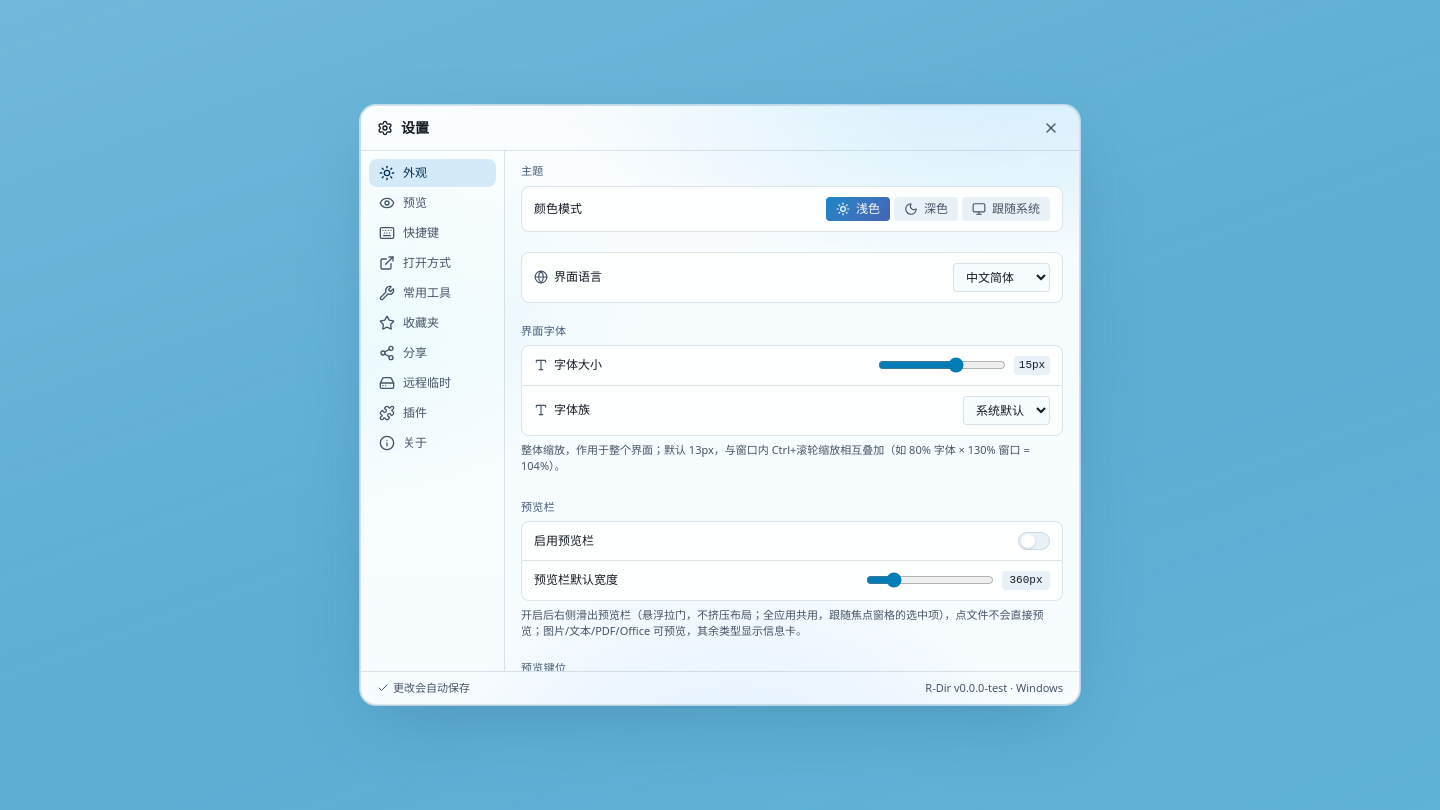
it: SettingsDialog 打开方式分区 › 展示名称与已关联扩展名
The width and height of the screenshot is (1440, 810).
Click the button "打开方式" at (432, 263), box top-left (369, 249), bottom-right (496, 277)
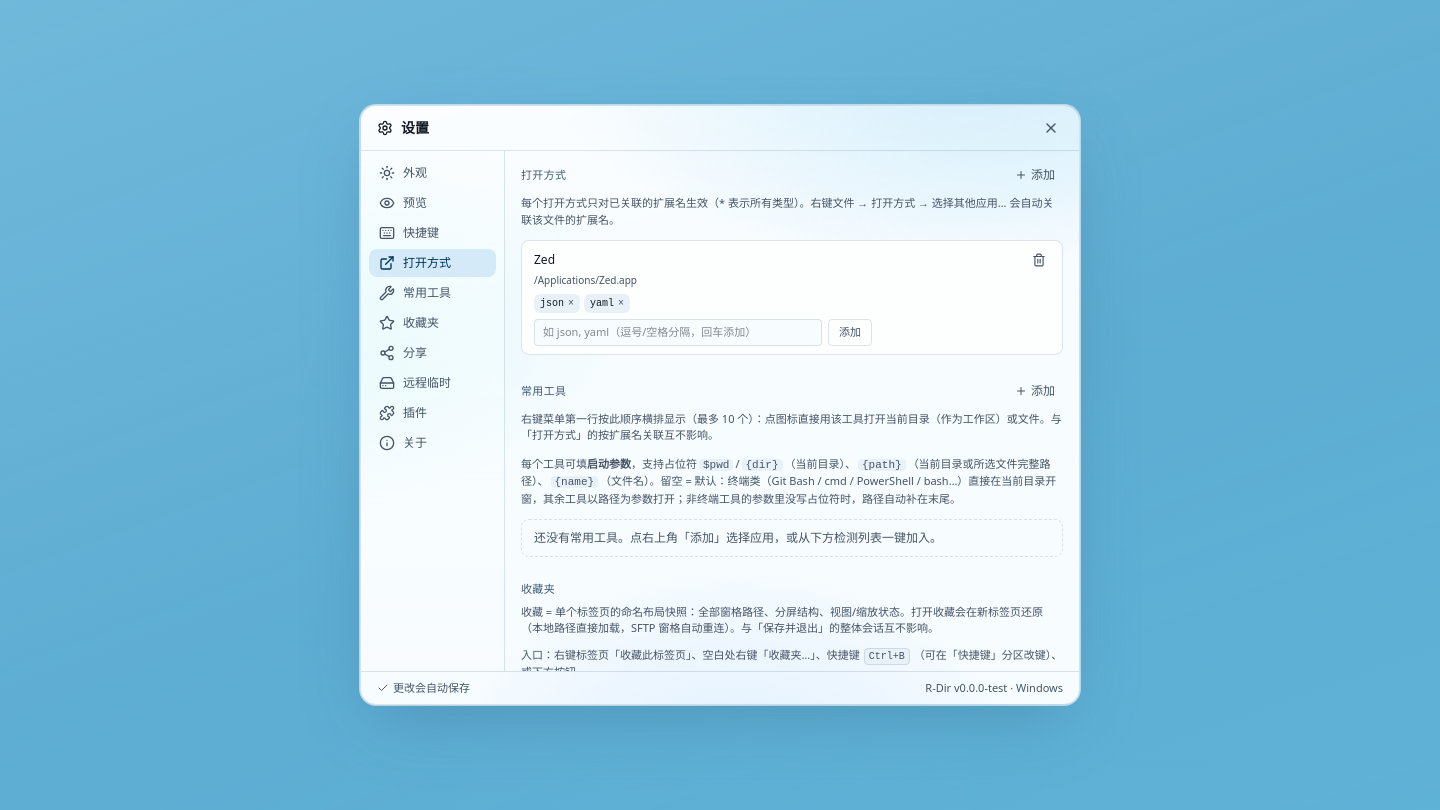
Expected: the text "Zed" is shown, top-left (534, 252), bottom-right (555, 268)
Expected: the text "json" is shown, top-left (540, 298), bottom-right (564, 309)
Expected: the text "yaml" is shown, top-left (590, 298), bottom-right (614, 309)
